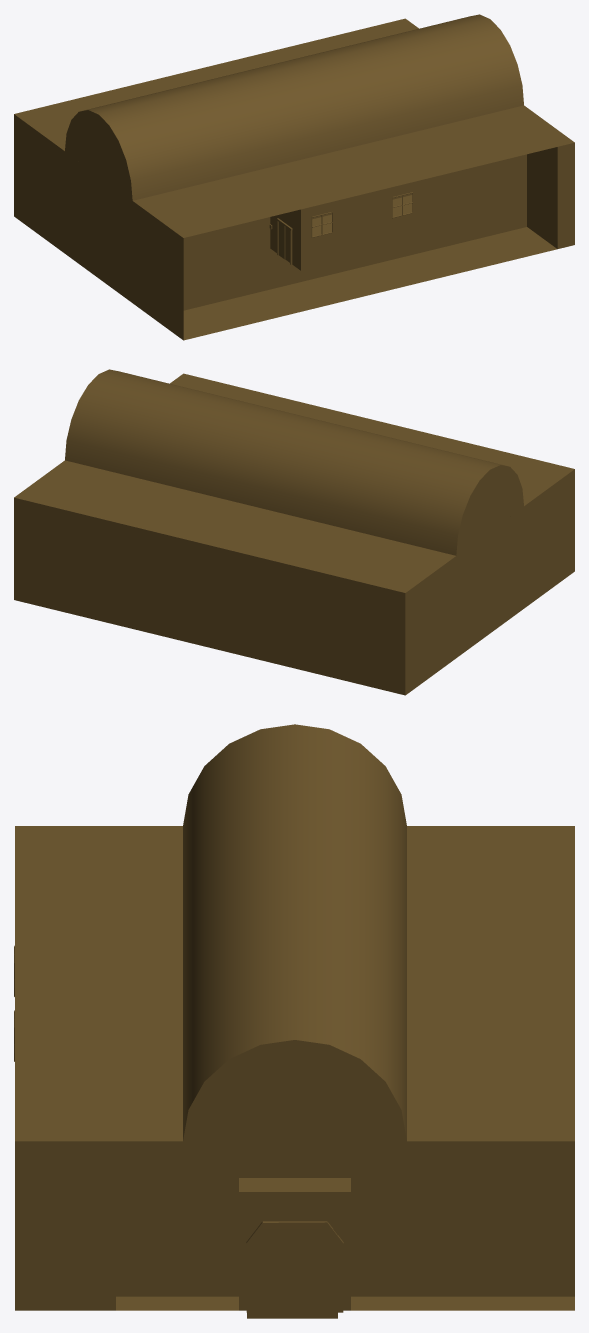
The model's file is Church.fbx.
3 views of the same model, one above another, from view 1: azimuth 30°, elevation 25°; view 2: azimuth 150°, elevation 25°; view 3: azimuth 270°, elevation 25° (orthographic). The views are drawn at different scales.
Visible parts, largest first — view 1: pCylinder1, leftWall, pPlane2, pPlane1, Floor, door; view 2: pCylinder1, rightWall1, pPlane2, pPlane1, leftWall, door; view 3: pPlane2, pCylinder1, door, leftWall, Floor, pCube7, pCube8.
Part boxes in pixels (box(x1,y1,x2,y2)): pCylinder1: box(65, 14, 523, 200); leftWall: box(153, 134, 572, 340); pPlane2: box(14, 19, 574, 237); pPlane1: box(14, 114, 183, 339); Floor: box(183, 195, 545, 340); door: box(389, 18, 574, 248); pCylinder1: box(65, 369, 523, 555); rightWall1: box(14, 498, 405, 695); pPlane2: box(16, 374, 574, 592); pPlane1: box(405, 492, 574, 695); leftWall: box(171, 374, 574, 593); door: box(14, 373, 199, 599); pPlane2: box(15, 826, 574, 1141); pCylinder1: box(183, 724, 406, 1141); door: box(15, 1127, 574, 1310); leftWall: box(15, 826, 115, 1310); Floor: box(116, 1296, 574, 1310); pCube7: box(292, 1229, 337, 1318); pCube8: box(247, 1229, 292, 1318).
Bounding box in the file's own units: 4022 × 1645 × 3005.
